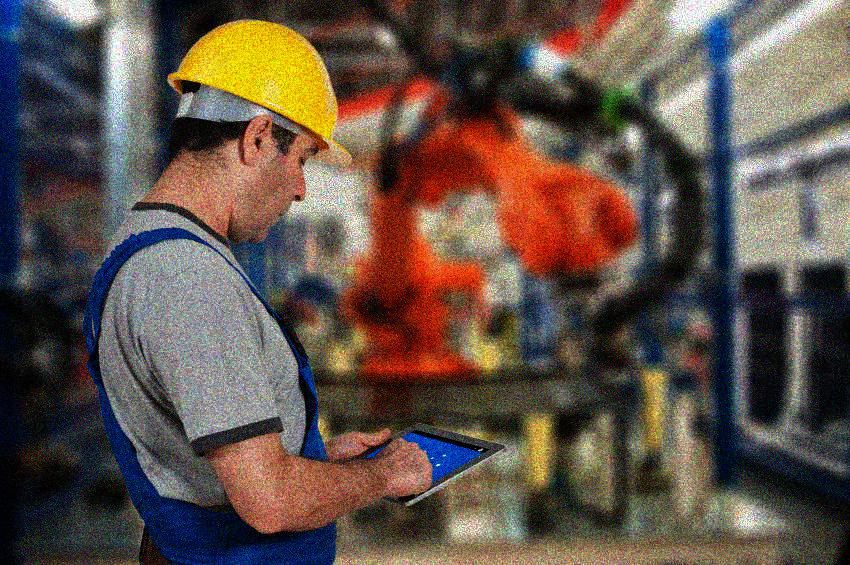helmet: (164, 17, 351, 249)
